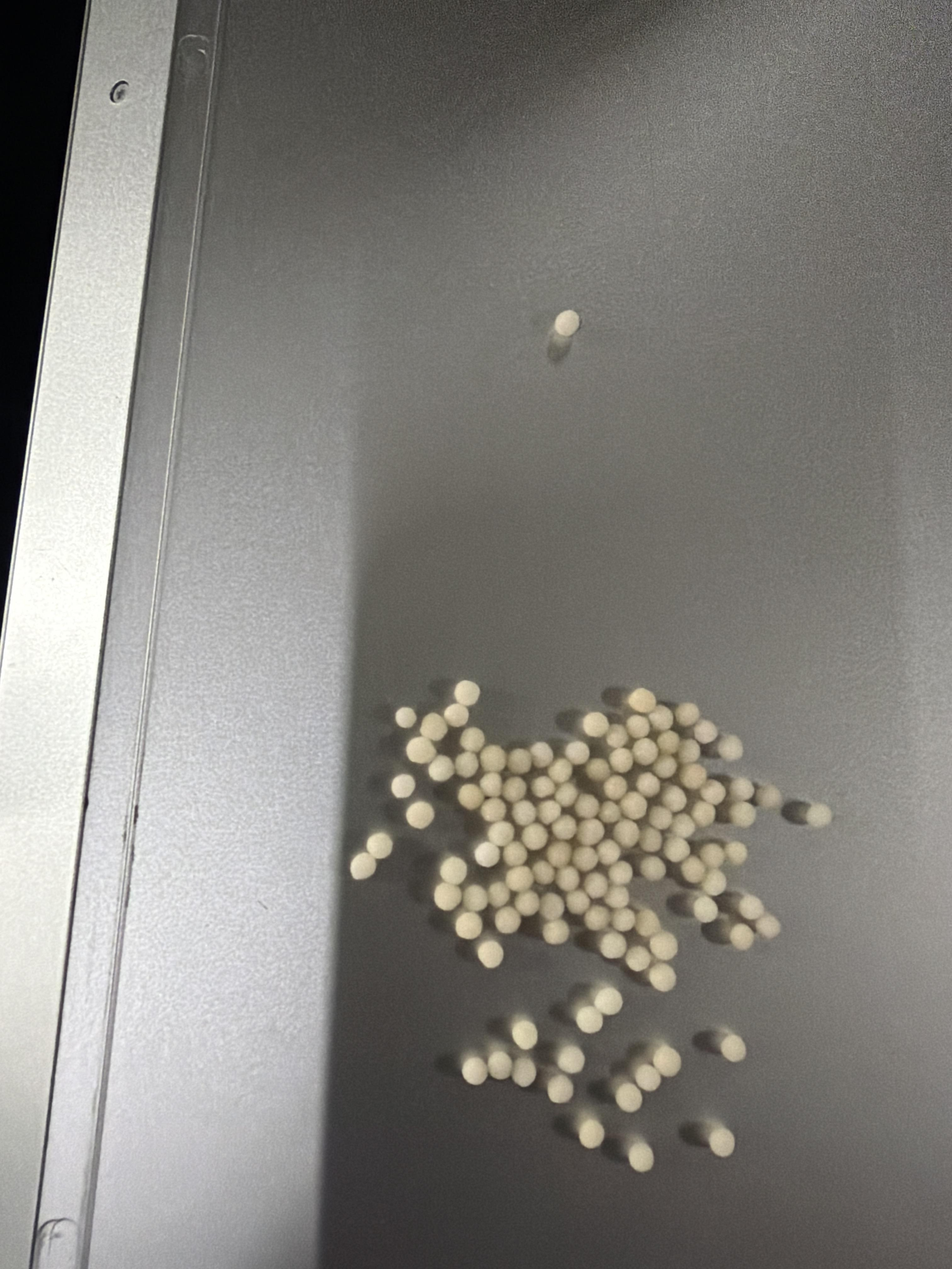pill: (390, 680, 782, 991), (572, 820, 599, 873), (490, 834, 528, 867), (613, 1080, 643, 1113), (652, 1043, 681, 1077), (627, 1138, 654, 1173), (592, 986, 623, 1016), (555, 1044, 585, 1075), (732, 893, 764, 922), (707, 1125, 735, 1158), (577, 1116, 605, 1149), (510, 1018, 538, 1051), (619, 790, 648, 821), (439, 855, 468, 886), (405, 735, 436, 764), (546, 1072, 574, 1104), (647, 962, 676, 992), (649, 931, 678, 961), (632, 1062, 661, 1091), (454, 911, 483, 940), (433, 882, 462, 911), (405, 800, 434, 829), (718, 1032, 746, 1062), (679, 855, 707, 885), (575, 1004, 603, 1034), (598, 929, 626, 959), (494, 905, 522, 935), (420, 712, 448, 742), (486, 1049, 513, 1080), (461, 1055, 488, 1086), (511, 1055, 537, 1087), (678, 762, 707, 790), (576, 818, 604, 847), (506, 865, 534, 894), (553, 309, 581, 338), (691, 894, 718, 924), (612, 819, 639, 849), (697, 840, 725, 868), (662, 835, 690, 863), (520, 822, 548, 850), (583, 903, 610, 932), (477, 939, 504, 968), (366, 831, 393, 860), (627, 688, 657, 714), (547, 755, 572, 786), (728, 922, 755, 950), (582, 871, 609, 899), (480, 744, 507, 772), (428, 755, 455, 783), (453, 680, 480, 708), (727, 801, 756, 827), (635, 908, 661, 937), (632, 737, 658, 766), (462, 883, 488, 912), (350, 851, 376, 880), (669, 811, 696, 838), (716, 734, 743, 761), (699, 779, 726, 806), (660, 786, 687, 813), (543, 918, 570, 945), (582, 711, 609, 738), (487, 820, 514, 847), (701, 868, 727, 896), (625, 945, 651, 973), (510, 799, 536, 827), (474, 840, 500, 868), (507, 747, 533, 775), (754, 784, 783, 809), (454, 750, 479, 779), (565, 890, 591, 917), (651, 753, 677, 780), (585, 757, 612, 783), (648, 704, 674, 731), (479, 797, 506, 823), (638, 856, 666, 881), (603, 773, 628, 801), (529, 741, 554, 769), (501, 775, 526, 803), (479, 771, 502, 801), (755, 913, 781, 939), (689, 801, 715, 827), (564, 740, 590, 766), (443, 702, 469, 728), (514, 890, 539, 917), (460, 726, 485, 753), (804, 803, 832, 827), (540, 892, 564, 920), (487, 880, 511, 908), (723, 840, 748, 866), (625, 713, 650, 739), (479, 770, 502, 798), (608, 860, 633, 885), (531, 774, 556, 799), (693, 719, 717, 745), (556, 866, 580, 892), (674, 703, 700, 727), (604, 723, 628, 749), (391, 773, 415, 799), (677, 737, 700, 764), (605, 885, 629, 910), (729, 777, 755, 800), (611, 907, 634, 933), (532, 859, 555, 885), (479, 771, 502, 797), (649, 805, 672, 830), (555, 781, 578, 806), (678, 737, 700, 762), (394, 706, 417, 729), (541, 801, 561, 823), (578, 798, 597, 816), (555, 817, 572, 834)
